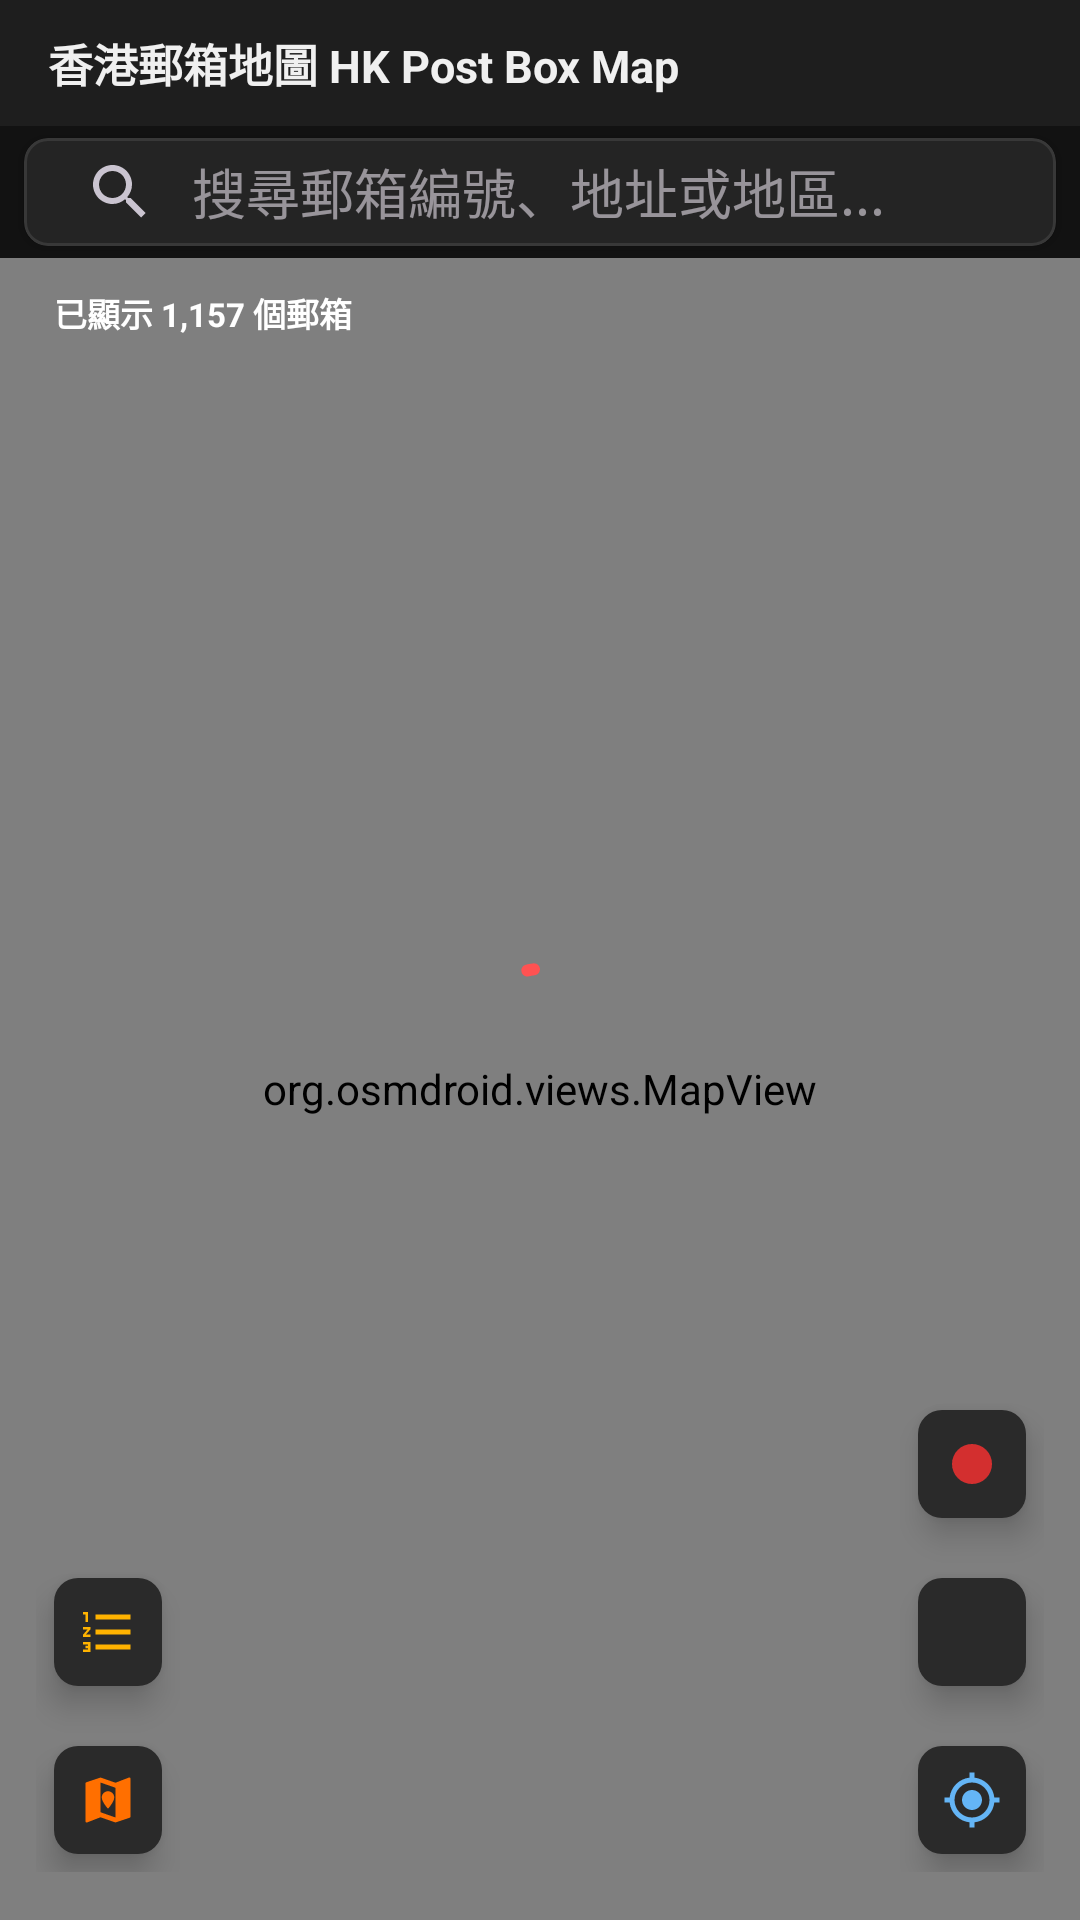

Icons on this 1080 x 1920 Android screen, each with its box as [x1, y1, x2, y2]:
Locate my position: [918, 1746, 1026, 1854]
Open sequence list: [54, 1578, 162, 1686]
Start or stop GPS track recording: [918, 1410, 1026, 1518]
Toggle planned route: [54, 1746, 162, 1854]
